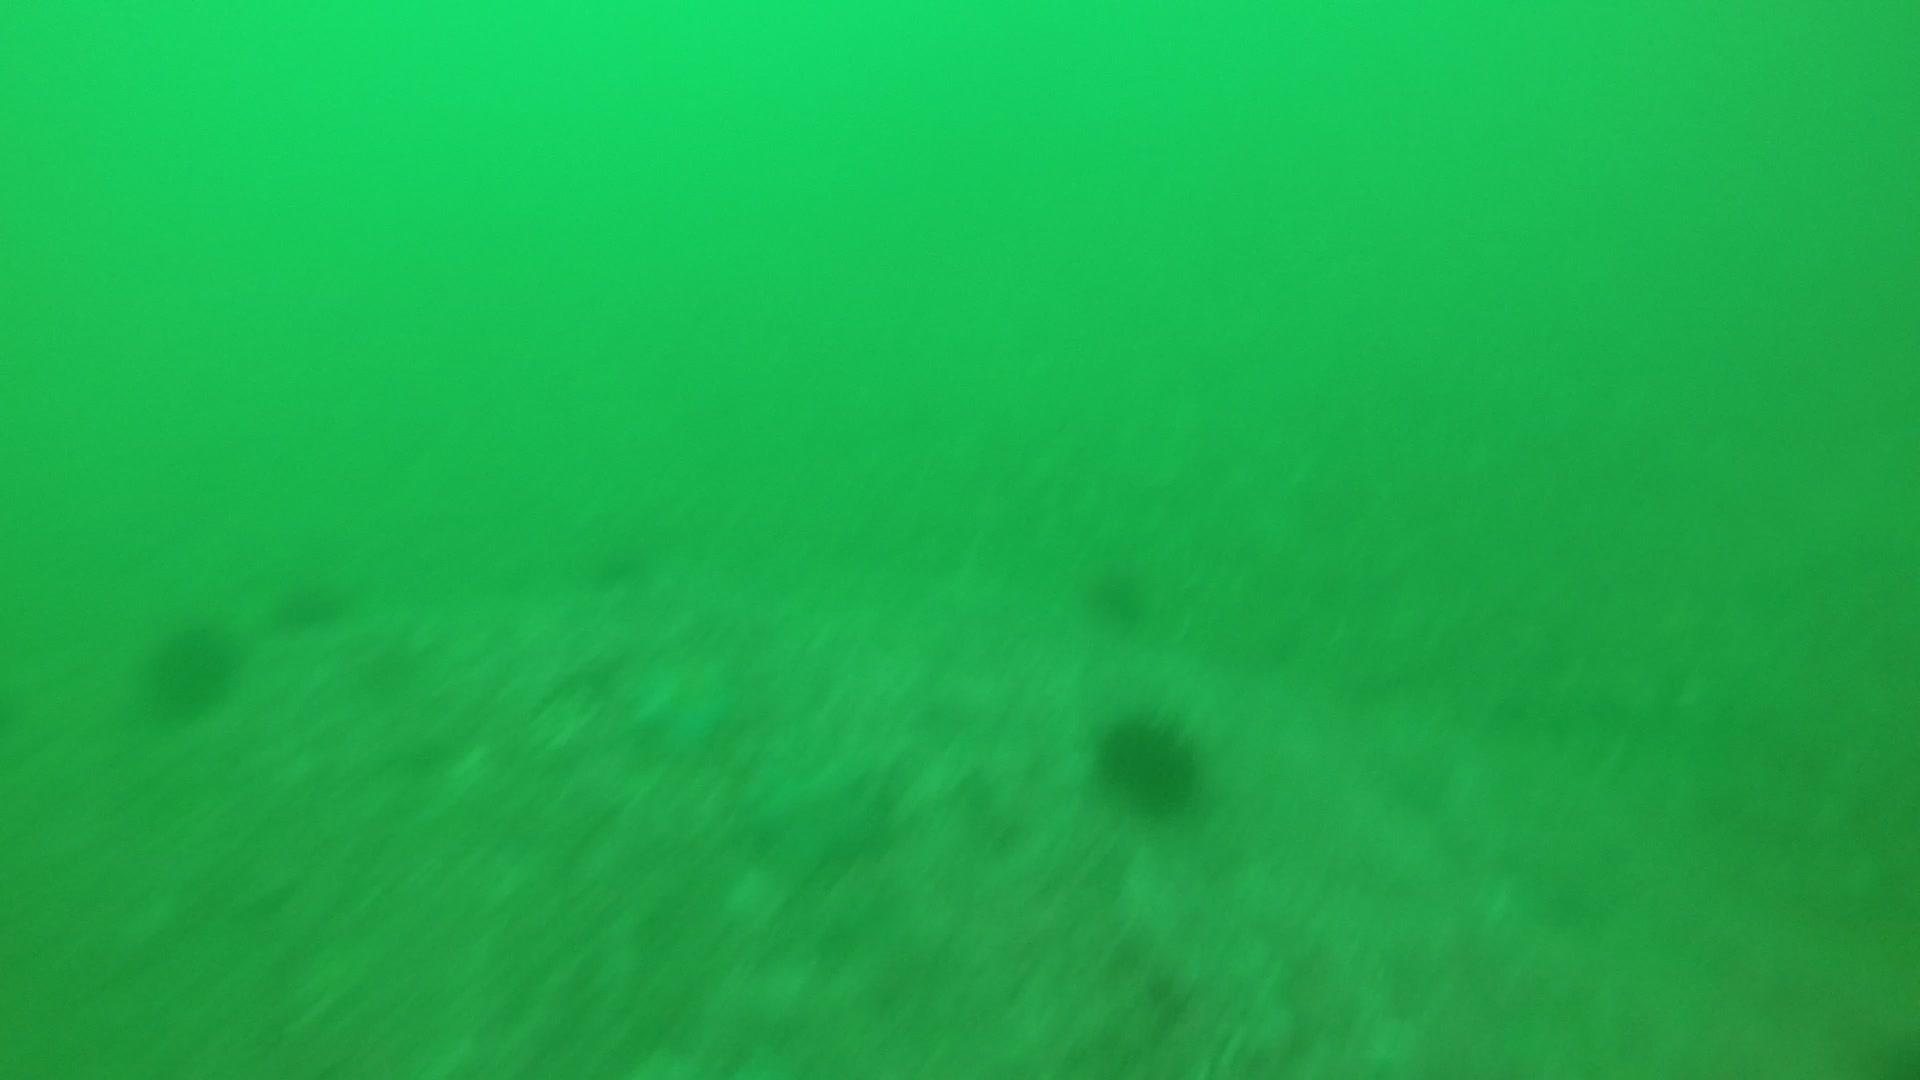echinus: (1088, 704, 1211, 818), (135, 611, 247, 720), (1079, 555, 1154, 626), (272, 568, 352, 633)
starfish: (622, 644, 745, 750)
